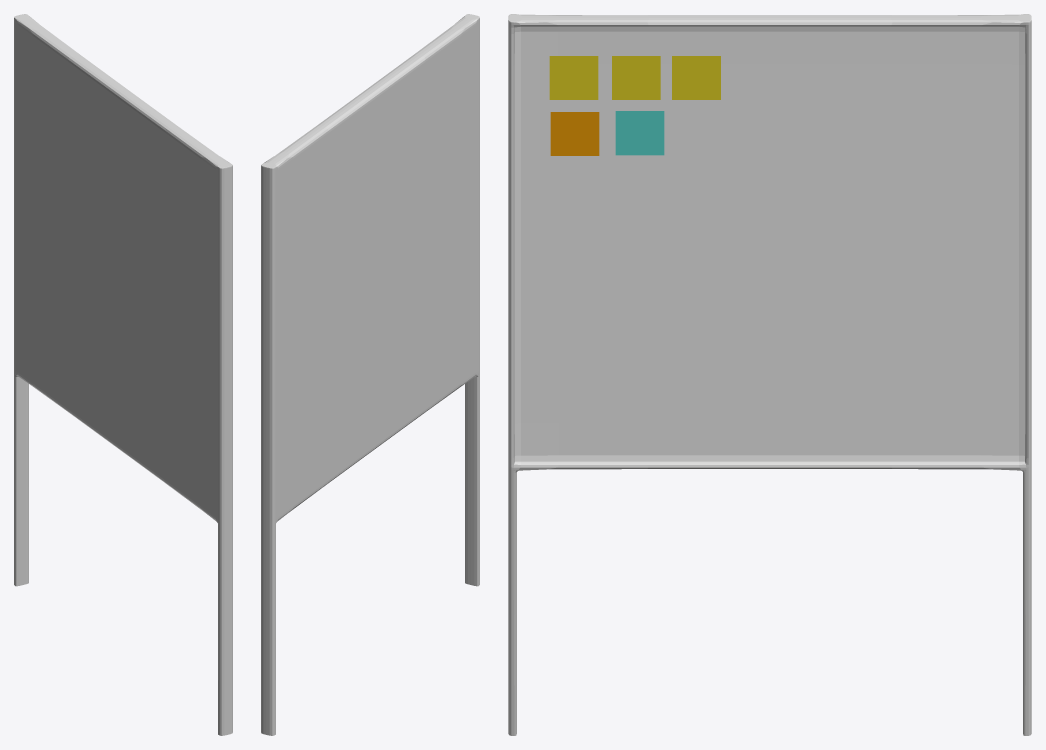
File: various_boards1.fbx
The picture shows the model from 3 angles, left to right: view 1: azimuth 30°, elevation 25°; view 2: azimuth 150°, elevation 25°; view 3: azimuth 270°, elevation 25°; orthographic projection. The views are drawn at different scales.
Parts seen in each view (by area): view 1: Cube; view 2: Cube; view 3: Cube, Plane.004.
Boxes of the visible parts, <box> form: Cube: <box>14,14,232,735</box>; Cube: <box>261,14,479,735</box>; Cube: <box>508,14,1031,735</box>; Plane.004: <box>549,56,720,155</box>.
Bounding box in the file's own units: 14.28 × 575 × 382.
